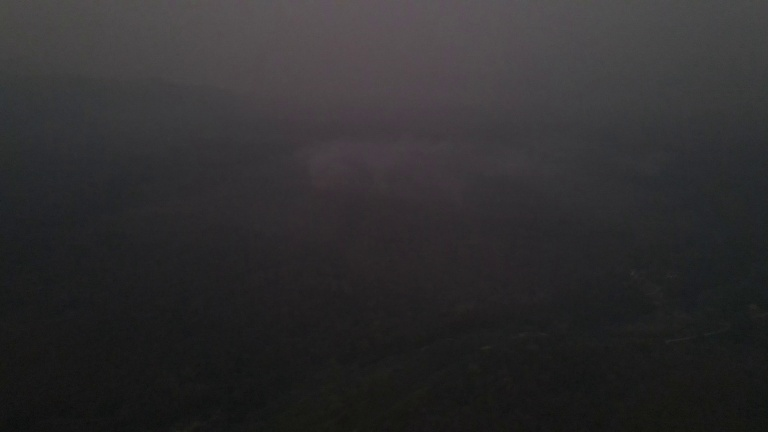smoke: (304, 139, 485, 202)
